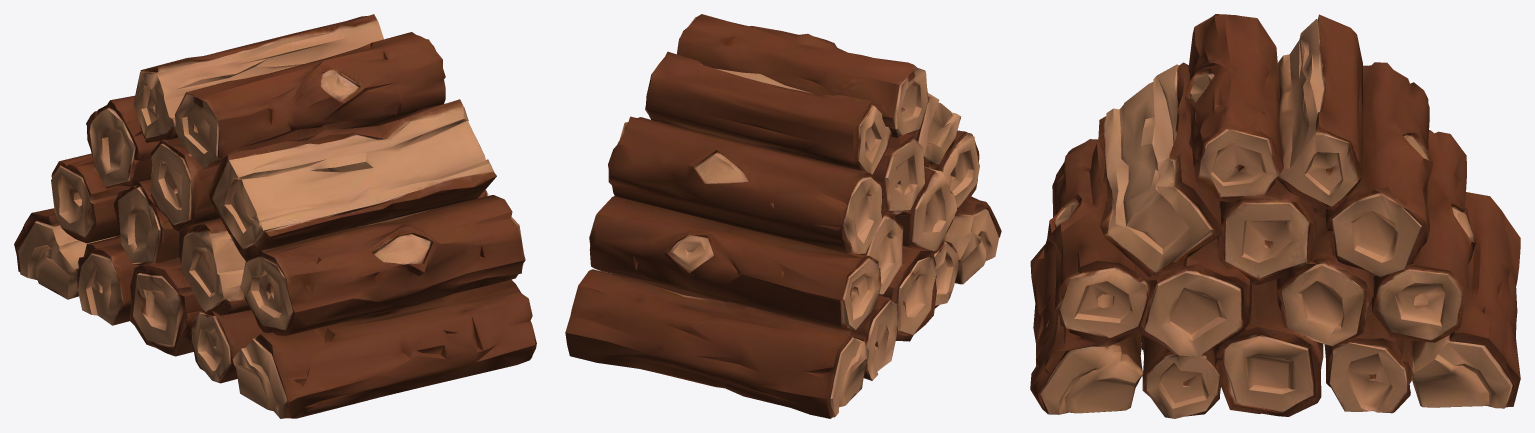
File: log_pile_idle.glb
3 renders of one model, left to right at view 1: azimuth 30°, elevation 25°; view 2: azimuth 150°, elevation 25°; view 3: azimuth 270°, elevation 25°, orthographic. The views are drawn at different scales.
Parts seen in each view (by area): view 1: tripo_node_95babd21-f939-42eb-ae25-39584ade8fb3; view 2: tripo_node_95babd21-f939-42eb-ae25-39584ade8fb3; view 3: tripo_node_95babd21-f939-42eb-ae25-39584ade8fb3.
Part boxes in pixels (x1=…): tripo_node_95babd21-f939-42eb-ae25-39584ade8fb3: x1=14, y1=14, x2=536, y2=418; tripo_node_95babd21-f939-42eb-ae25-39584ade8fb3: x1=565, y1=14, x2=1001, y2=418; tripo_node_95babd21-f939-42eb-ae25-39584ade8fb3: x1=1030, y1=14, x2=1520, y2=418.
Size of the model in its own units: 1.1 by 0.9583 by 1.45.
Materials: 1 (1 with a texture image).
